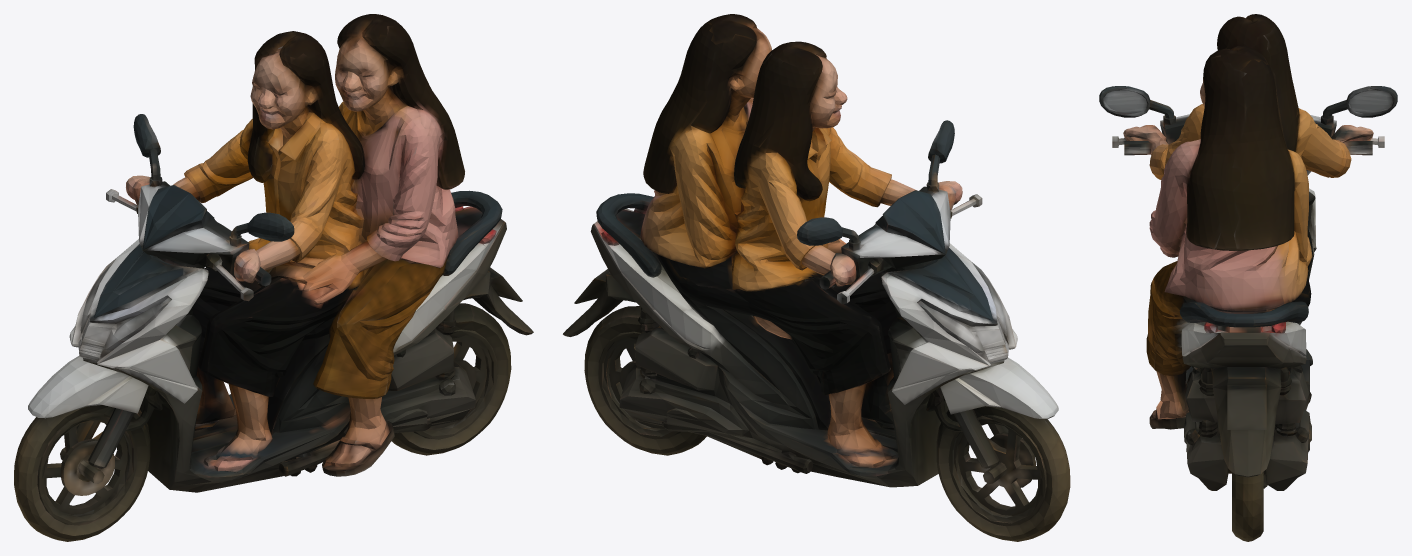
3 renders of one model, left to right at view 1: azimuth 30°, elevation 25°; view 2: azimuth 150°, elevation 25°; view 3: azimuth 270°, elevation 25°, orthographic.
Parts seen in each view (by area): view 1: texture_pbr_v128; view 2: texture_pbr_v128; view 3: texture_pbr_v128.
Boxes of the visible parts, bbox=[...] form: texture_pbr_v128: bbox=[14, 14, 533, 541]; texture_pbr_v128: bbox=[563, 14, 1070, 541]; texture_pbr_v128: bbox=[1099, 14, 1397, 541].
Size of the model in its own units: 0.9938 by 0.8436 by 0.5076.
Materials: 1 (1 with a texture image).
